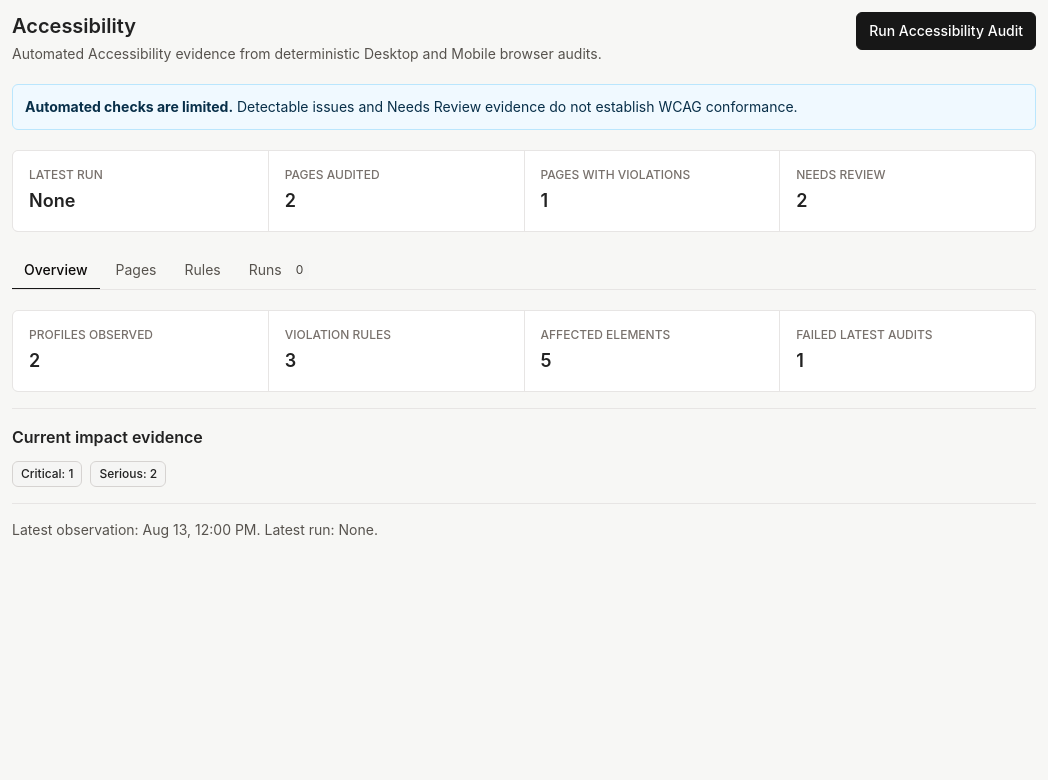
Test case: Accessibility workspace › separates Overview, Pages, Rules, and Runs with empty states
The width and height of the screenshot is (1048, 780).
Click the tab "Pages": (136,271) [104,252,168,290]
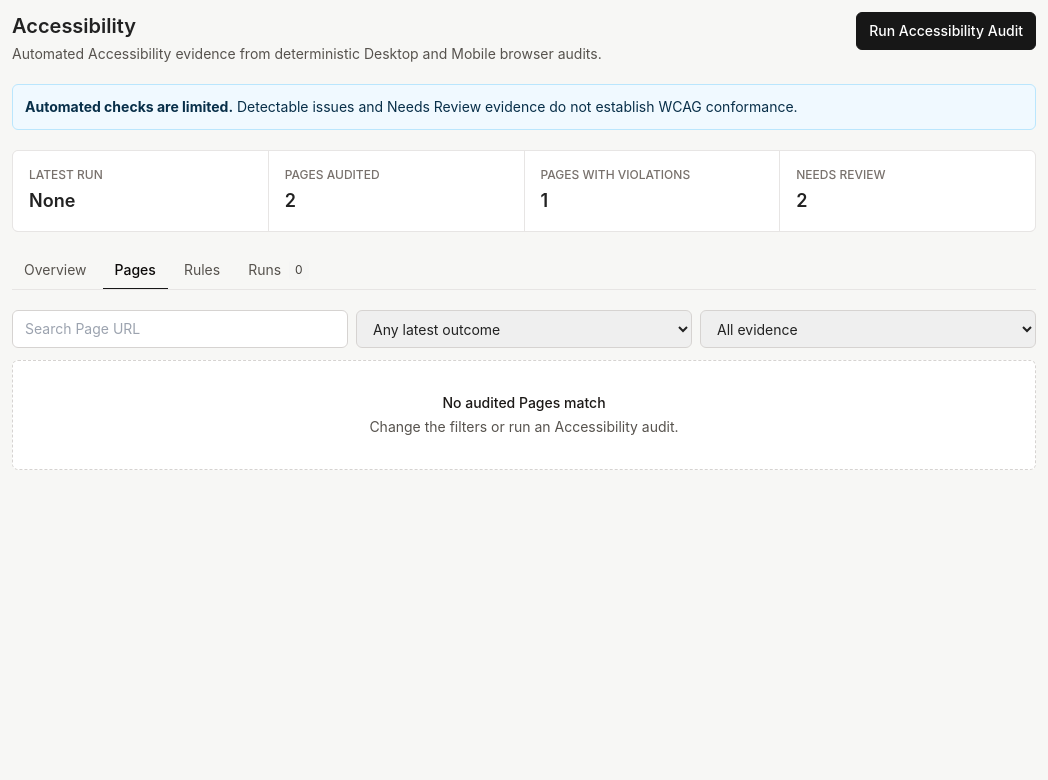
Result: the text "No audited Pages match" is shown at [442,394,606,411]
Click the tab "Rules": (202,271) [172,252,232,290]
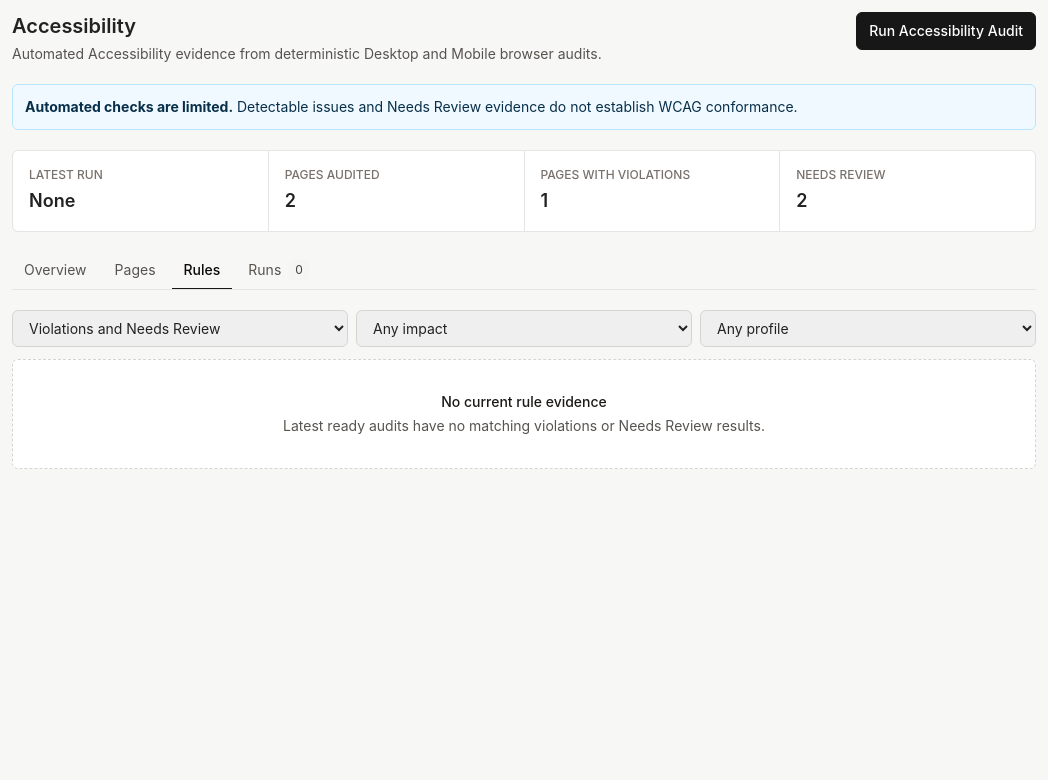
Result: the text "No current rule evidence" is shown at [441,393,607,410]
Click the tab "Runs 0": (279,271) [236,252,321,290]
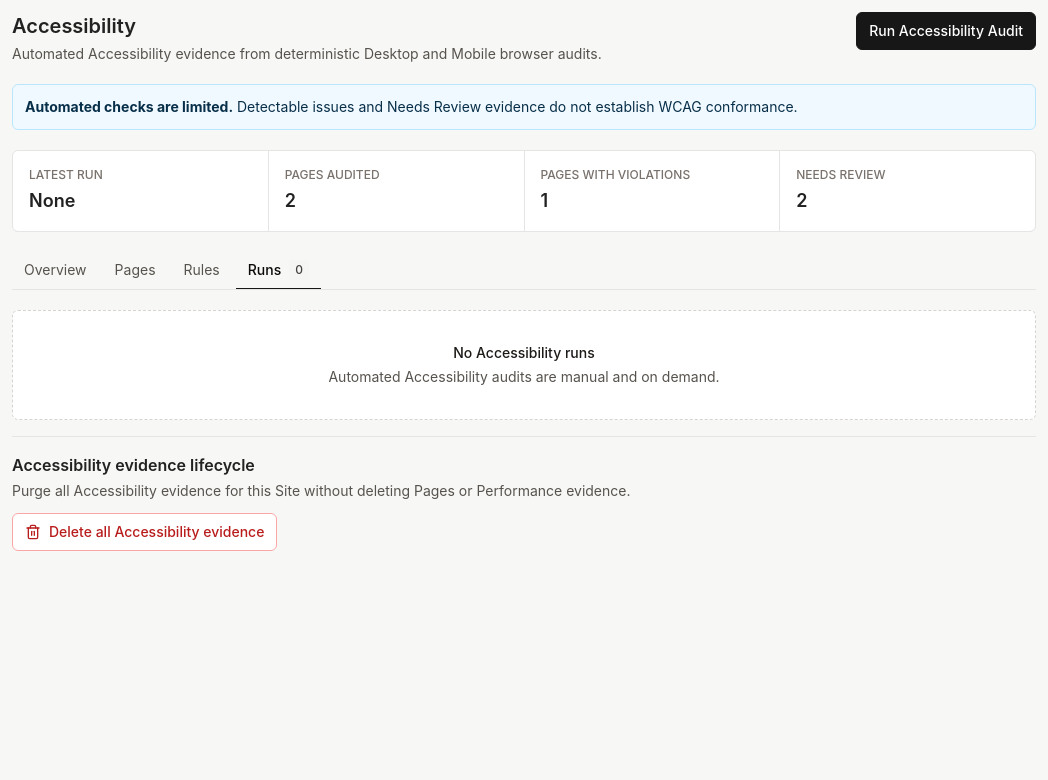
Result: the text "No Accessibility runs" is shown at [453,344,595,361]
